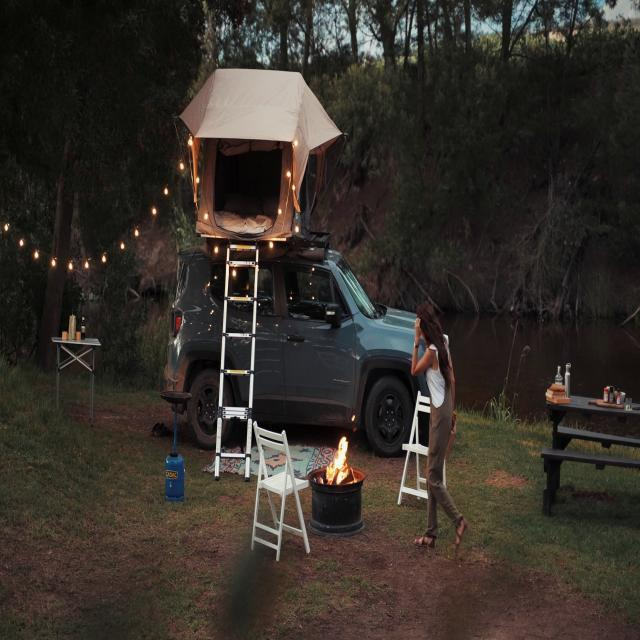Fire: (322, 434, 354, 486)
